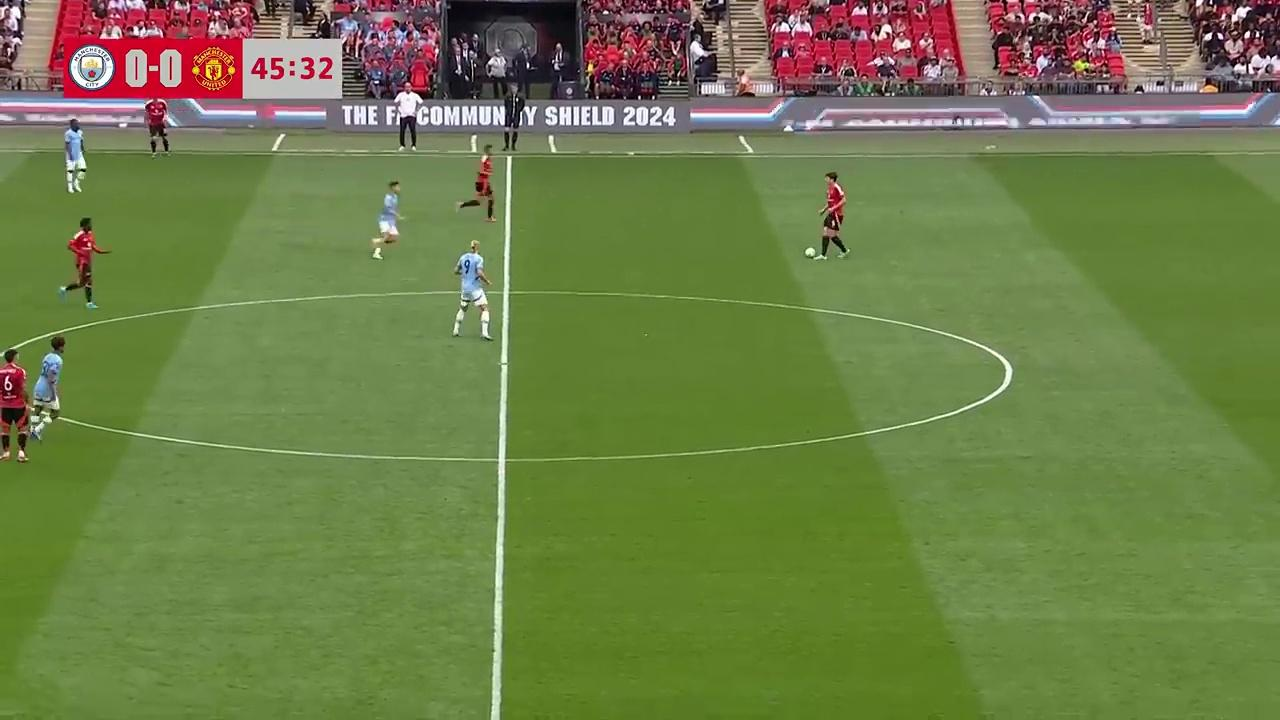ball: (803, 244, 816, 259)
player: (58, 217, 110, 309), (451, 240, 492, 340), (0, 360, 33, 463), (456, 146, 495, 223), (33, 333, 66, 423), (820, 169, 849, 260), (371, 180, 402, 260), (0, 387, 31, 464), (63, 120, 85, 194), (145, 98, 171, 158)
